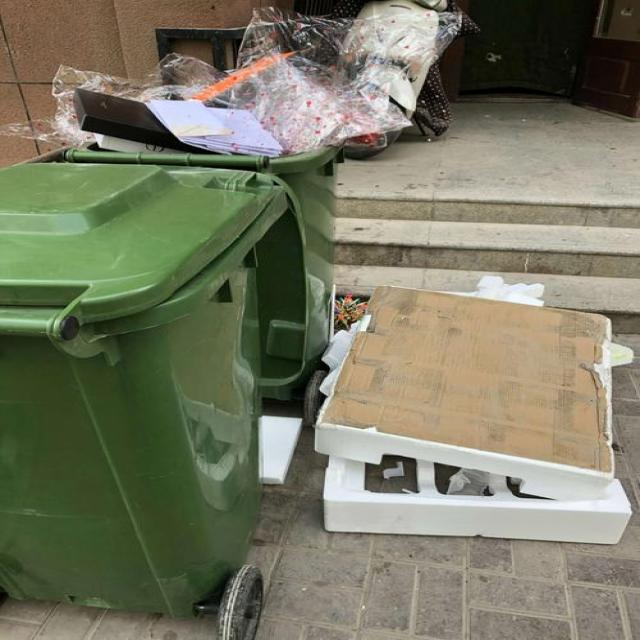garbage: (258, 276, 632, 543)
garbage_bin: (0, 161, 307, 613)
overflow: (2, 0, 460, 399)
